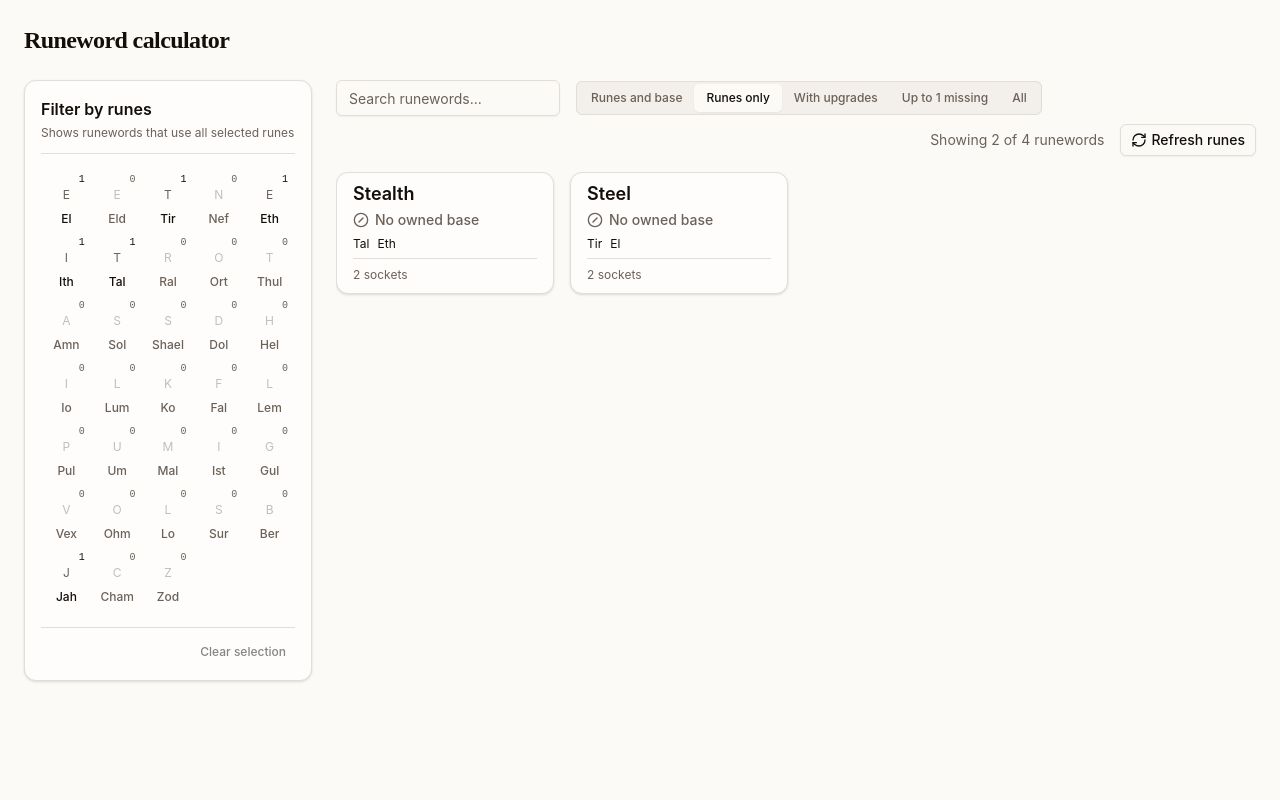
Test: RunewordCalculator › rune selection › When Clear selection is clicked, then the rune selection is reset
Expected: the text "Showing 2 of 4 runewords" is shown, x1=930 y1=130 x2=1104 y2=150
What coordinates should you click on to do the following:
click the button "All"
I would click on:
 (1020, 98)
Its box is x1=1000 y1=84 x2=1039 y2=112.
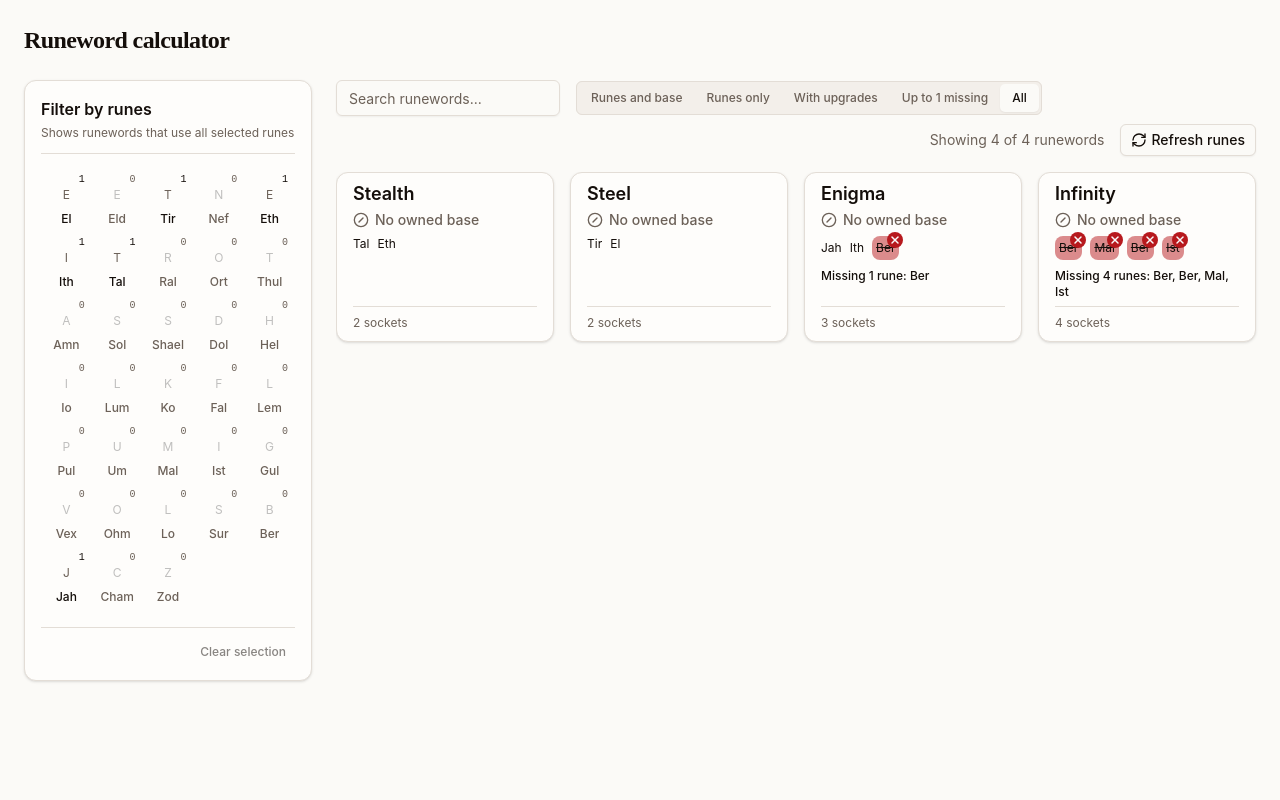
Expected: the button "Clear selection" is disabled, x1=191 y1=640 x2=295 y2=664
What coordinates should you click on to do the following:
click the button with aria-label "Ber,"
I would click on:
 (270, 516)
Its box is x1=246 y1=487 x2=293 y2=546.
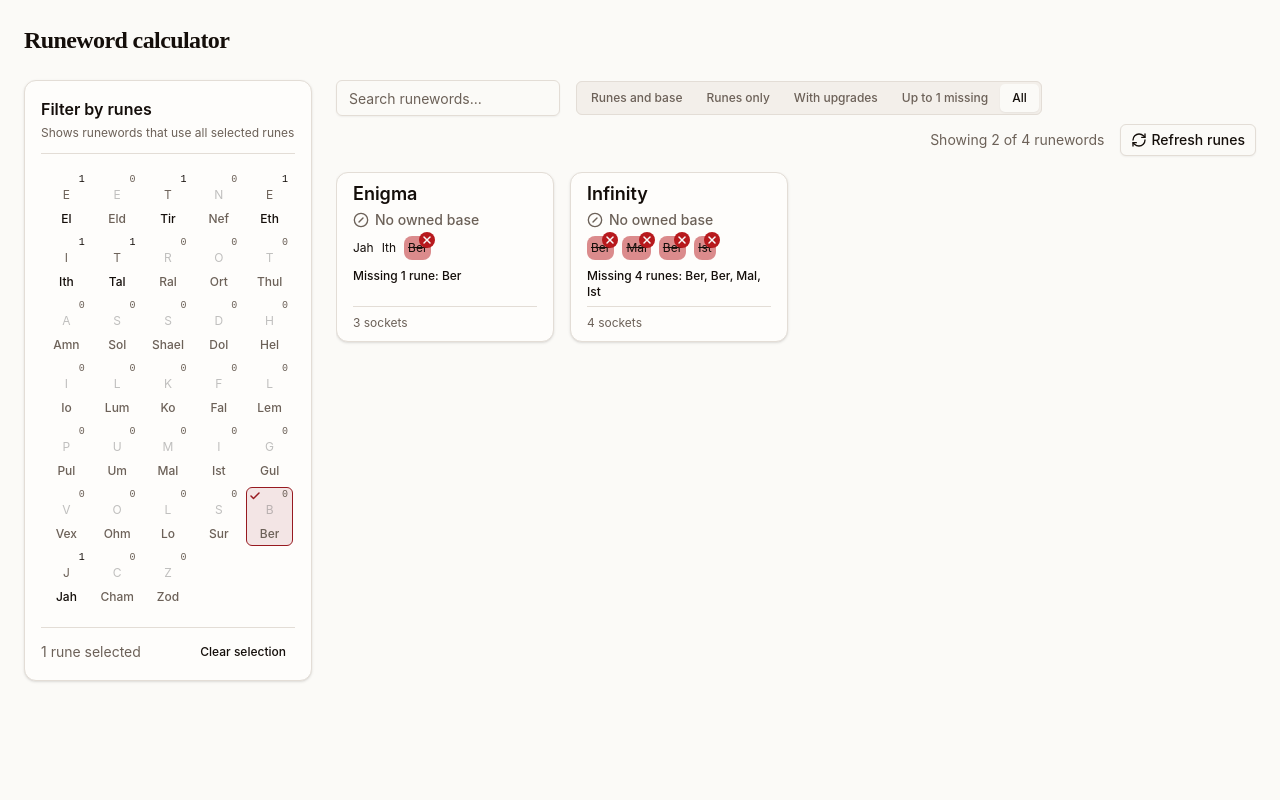
What coordinates should you click on to do the following:
click the button "Clear selection"
I would click on:
 (243, 652)
Its box is x1=191 y1=640 x2=295 y2=664.
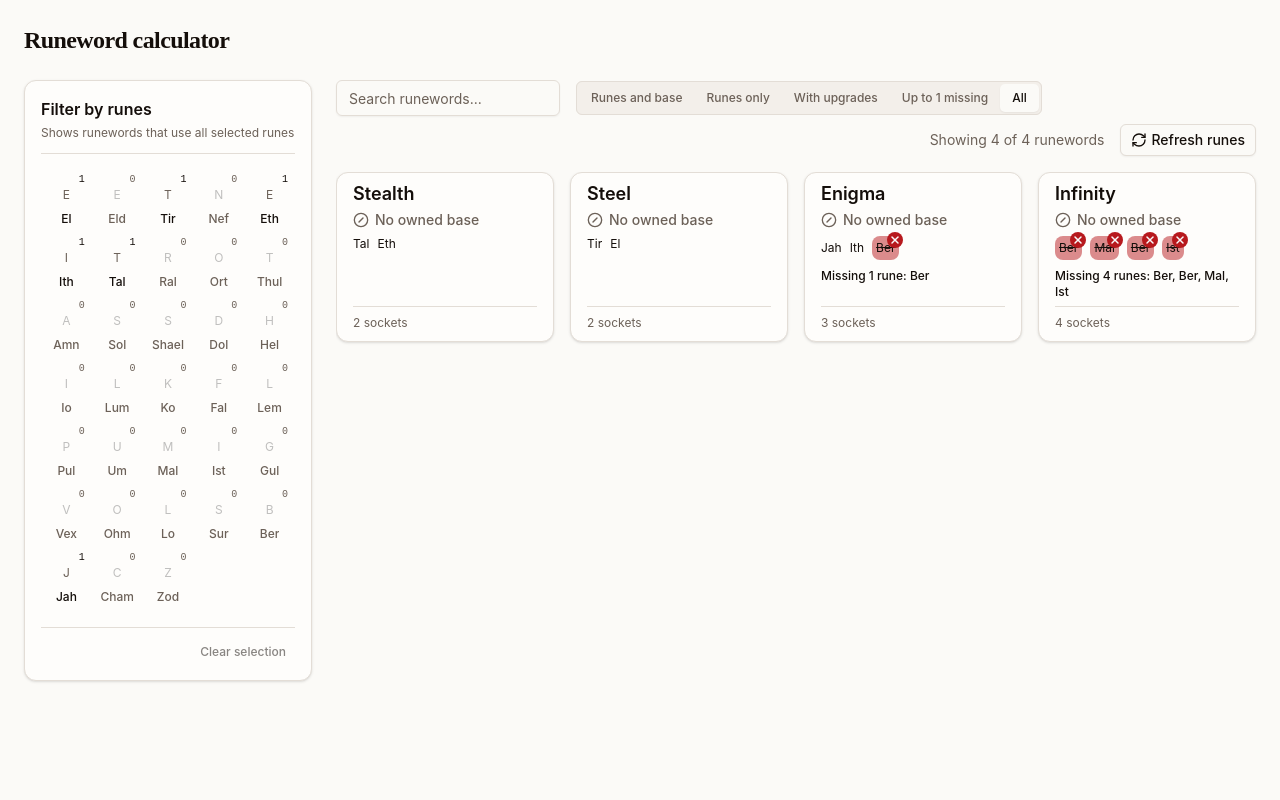
Expected: the button "Clear selection" is disabled, x1=191 y1=640 x2=295 y2=664
